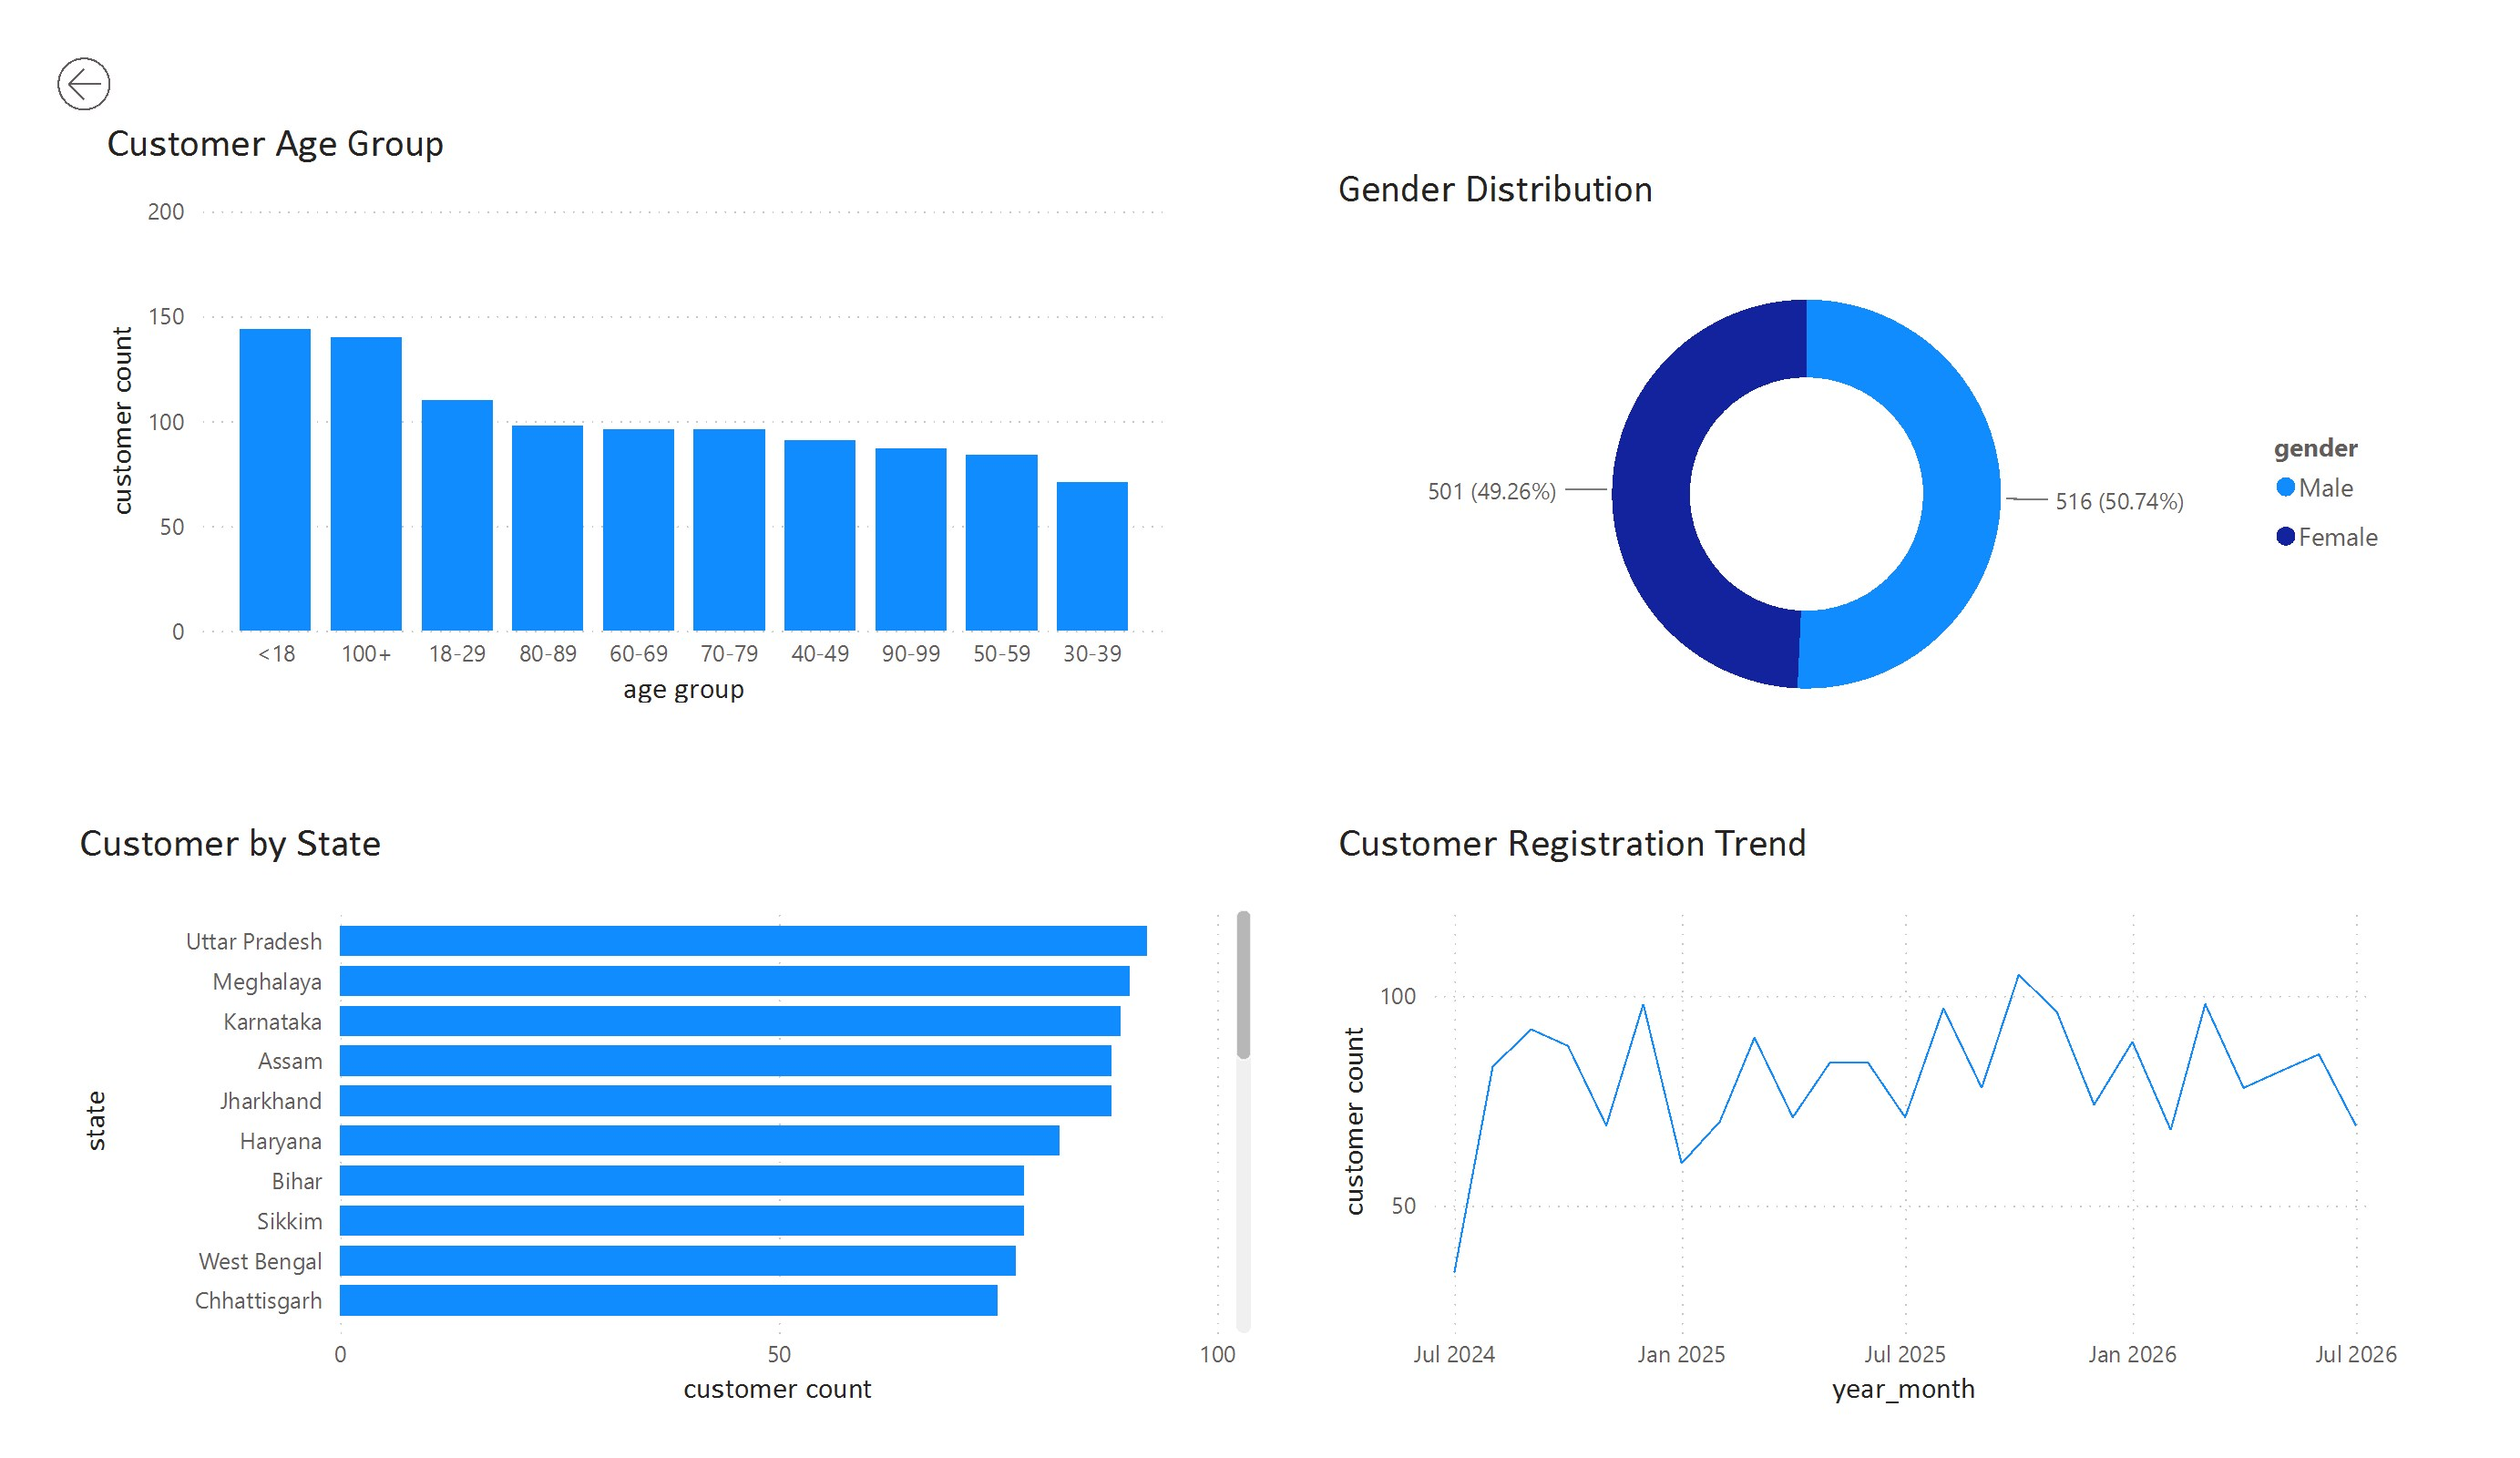

The page's visual inventory and layout, read from the dashboard file:
{"tool":"powerbi","page":{"name":"Customer","canvas":[1280,720],"ordinal":1},"visuals":[{"type":"actionButton","box":[0,0,100,40],"z":0},{"type":"donutChart","title":"Gender Distribution","fields":{"Category":["Customer_gender_summary.gender"],"Y":["Sum(Customer_gender_summary.customer_count)"]},"box":[676,63.6,567.8,311.8],"z":1000},{"type":"clusteredBarChart","title":"Customer by State","fields":{"Category":["Customer_state_summary.state"],"Y":["Sum(Customer_state_summary.customer_count)"]},"box":[13,409,627,311],"z":2000},{"type":"clusteredColumnChart","title":"Customer Age Group","fields":{"Category":["Age_Summary.age_group"],"Y":["Sum(Age_Summary.customer_count)"]},"box":[27,39.8,568,311],"z":3000},{"type":"lineChart","title":"Customer Registration Trend","fields":{"Y":["Sum(Montly_Registeration.customer_count)"],"Category":["Montly_Registeration.year_month"]},"box":[676,409,568,311],"z":4000}]}

Visuals, with their boxes on the page's 1280x720 design canvas (x1, y1, x2, y2). These are canvas units, not pixel positions in the 2520x1458 screenshot, which may show the page scaled, cropped or inside an application window:
actionButton: bbox=(0, 0, 100, 40)
"Gender Distribution" donutChart: bbox=(676, 64, 1244, 375)
"Customer by State" clusteredBarChart: bbox=(13, 409, 640, 720)
"Customer Age Group" clusteredColumnChart: bbox=(27, 40, 595, 351)
"Customer Registration Trend" lineChart: bbox=(676, 409, 1244, 720)
